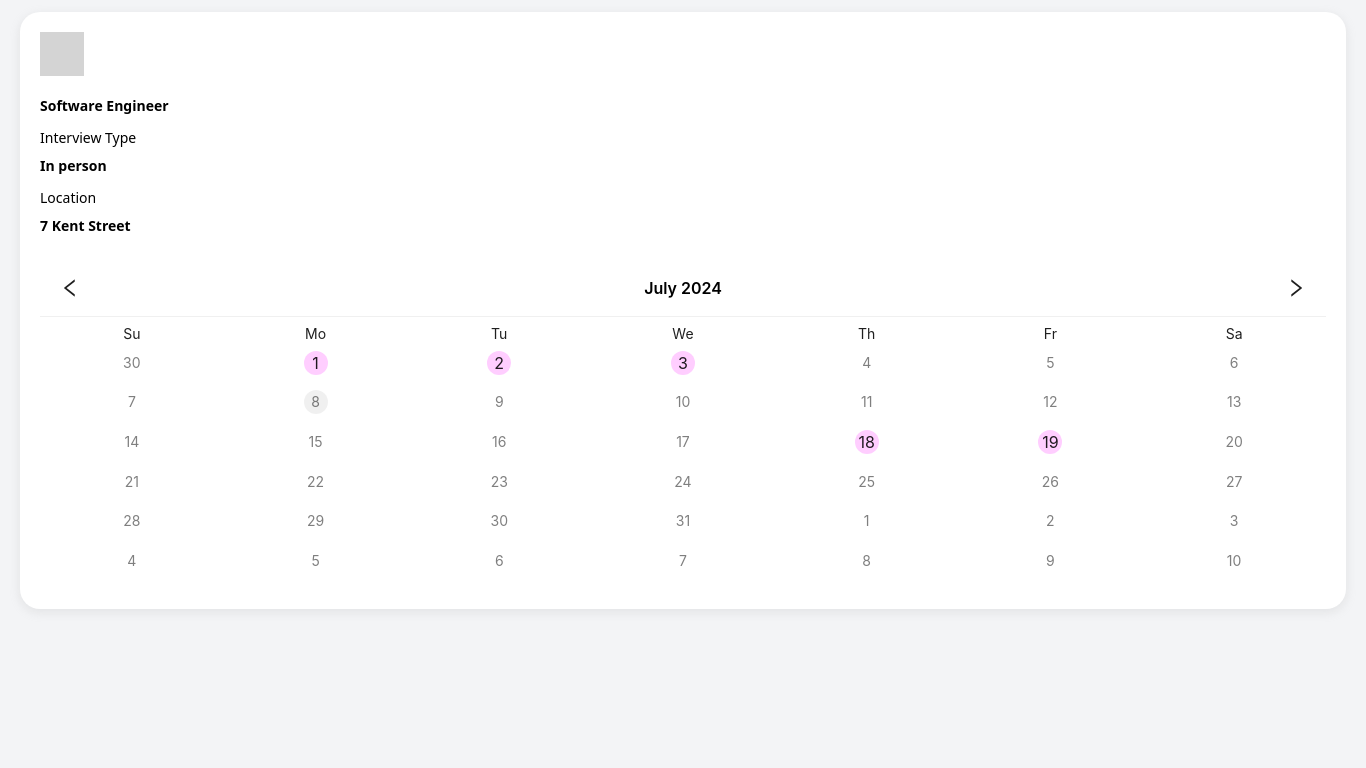
it: MobileCandidateSelectInterviewTime › should show MobileInterviewTimeSlotBooking when a valid date is clicked
Click the 1st text "1": point(316, 363) [312, 353, 319, 373]
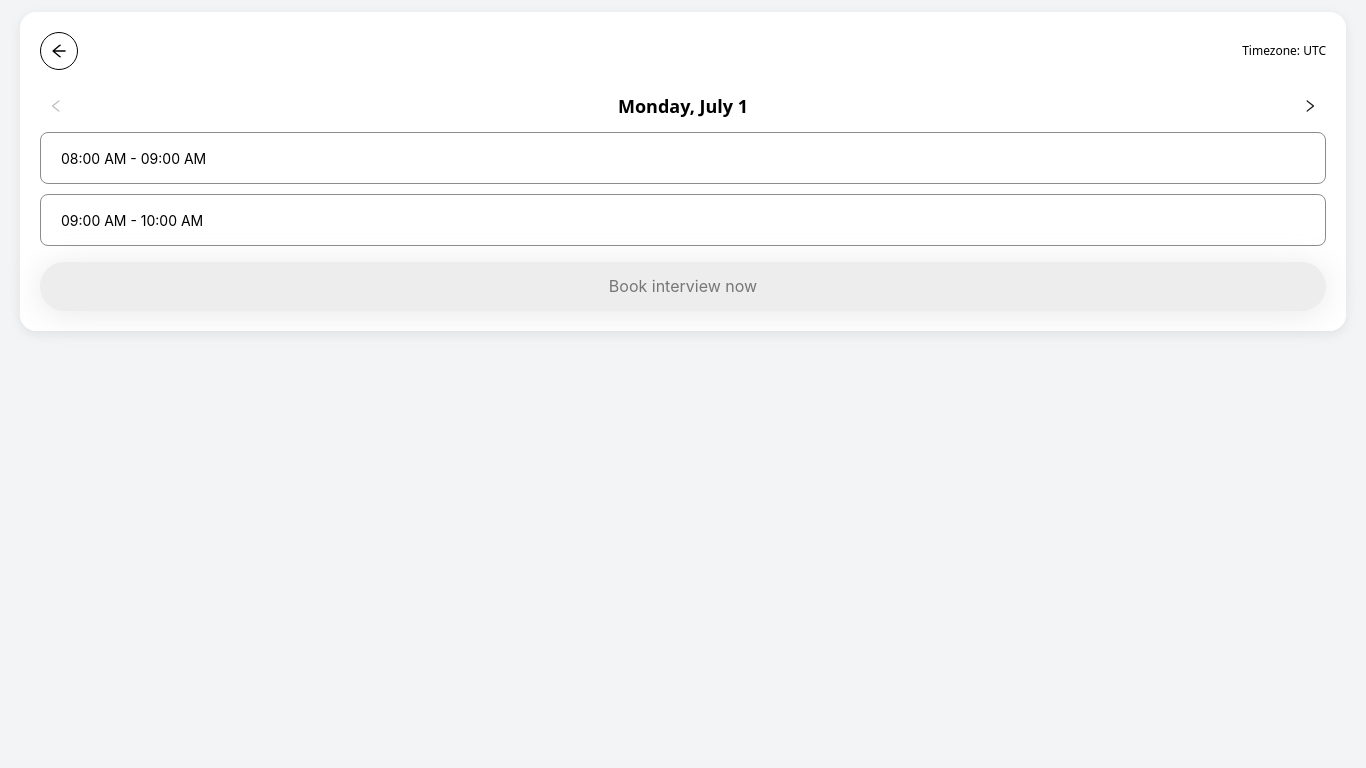
Check: the element with test id "mobile-interview-time-slot-booking" is shown, box [20, 12, 1346, 331]
